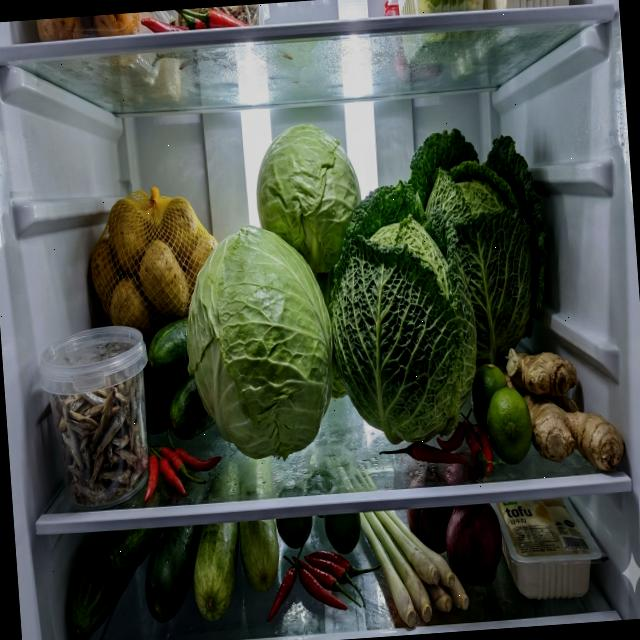anchovies: (46, 332, 152, 512)
cabbage: (322, 179, 485, 448), (177, 218, 339, 464), (407, 122, 553, 370), (252, 119, 366, 278)
chili: (262, 546, 384, 624), (376, 406, 493, 479), (138, 425, 224, 503)
cucumber: (64, 518, 284, 640), (140, 314, 217, 442)
ginger: (504, 340, 626, 478)
lemongrass: (359, 505, 472, 629)
lime: (468, 360, 535, 468), (323, 512, 363, 556), (275, 516, 315, 550)
onion: (405, 502, 505, 590)
potato: (85, 184, 223, 330)
tofu: (492, 494, 606, 604)
